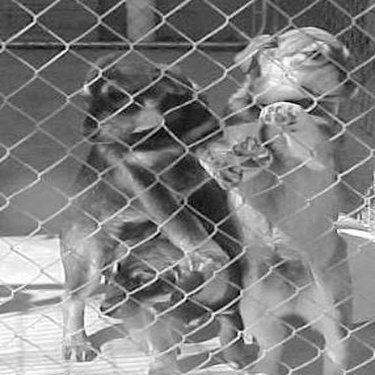dog: (44, 51, 249, 363), (197, 16, 359, 369), (82, 208, 254, 373)
